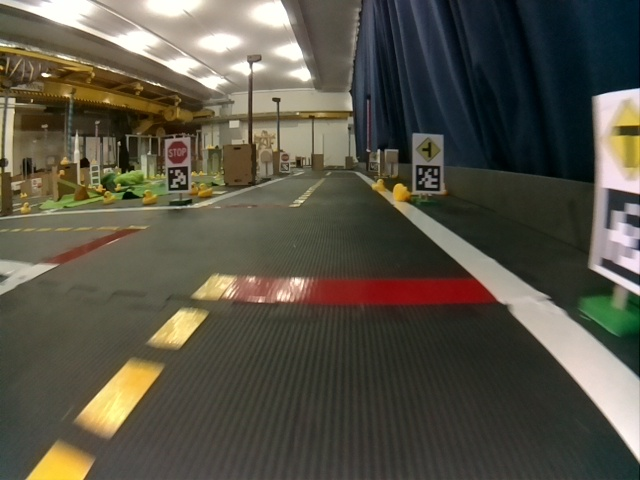Duckie: (393, 184, 409, 201), (142, 190, 155, 203), (374, 179, 384, 191), (198, 185, 208, 195), (104, 192, 112, 204), (21, 203, 31, 212)
Intersection sign: (600, 101, 639, 181), (416, 137, 441, 162)
QR code: (597, 200, 639, 285), (416, 165, 440, 191), (167, 167, 188, 190), (281, 163, 289, 172)
Stop sign: (168, 141, 188, 163), (281, 153, 290, 162)
